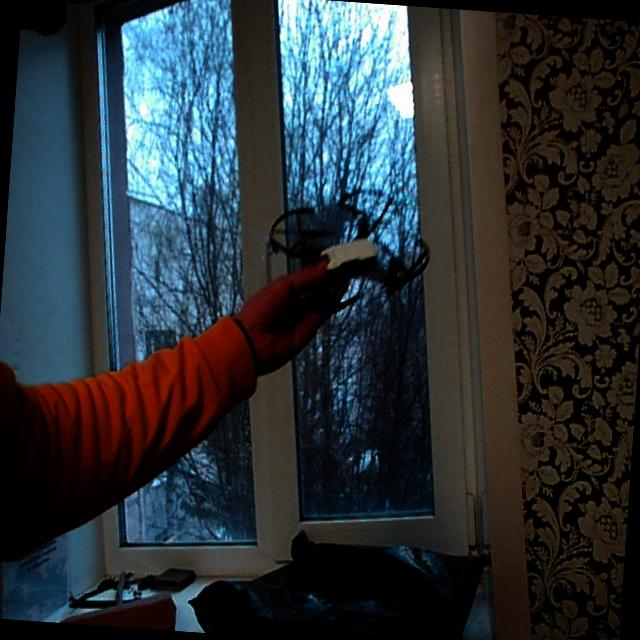drone: (256, 170, 448, 330)
